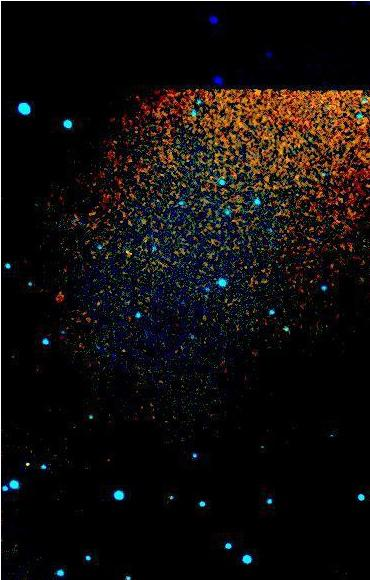star: (12, 450, 42, 480)
